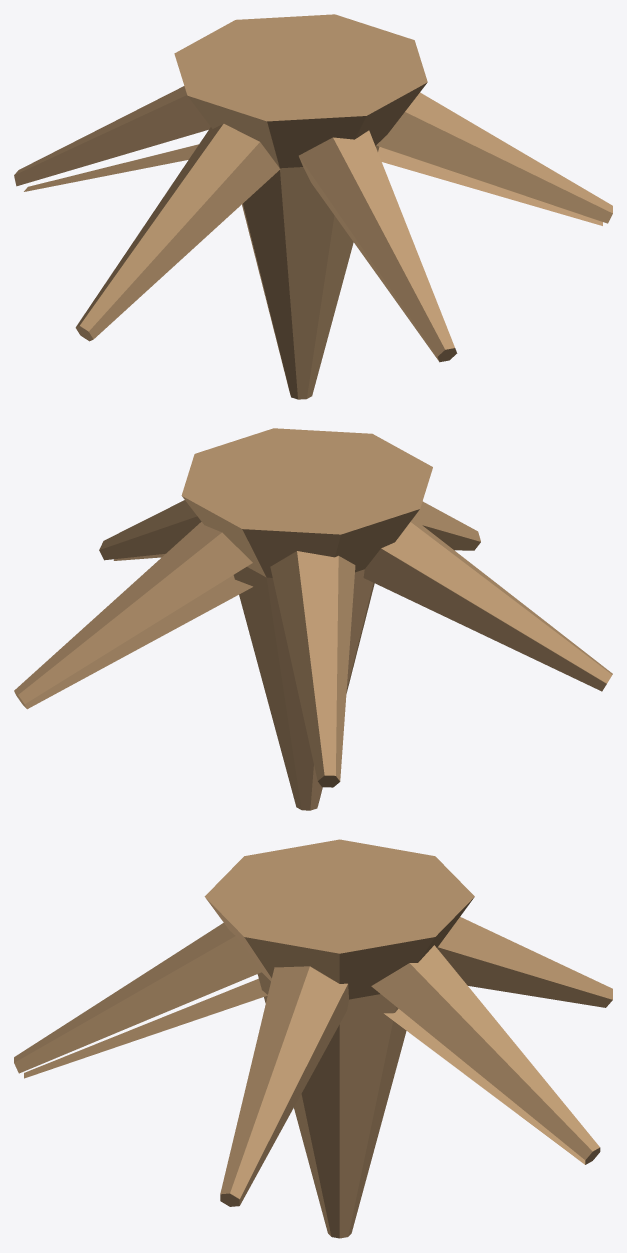
The model's file is Taproot.glb.
3 renders of one model, top to bottom at view 1: azimuth 30°, elevation 25°; view 2: azimuth 150°, elevation 25°; view 3: azimuth 270°, elevation 25°, orthographic. The views are drawn at different scales.
Visible parts, largest first — view 1: Taproot_Root; view 2: Taproot_Root; view 3: Taproot_Root.
Part boxes in pixels (bbox=[...]): Taproot_Root: bbox=[14, 14, 612, 399]; Taproot_Root: bbox=[14, 428, 612, 810]; Taproot_Root: bbox=[14, 839, 612, 1238].
Size of the model in its own units: 3.68 by 2.2 by 3.54.
